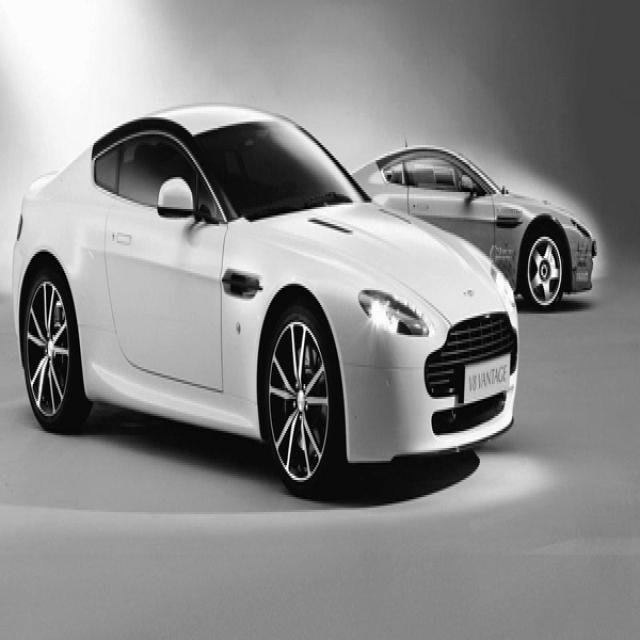car: (11, 102, 520, 500), (350, 143, 597, 309)
